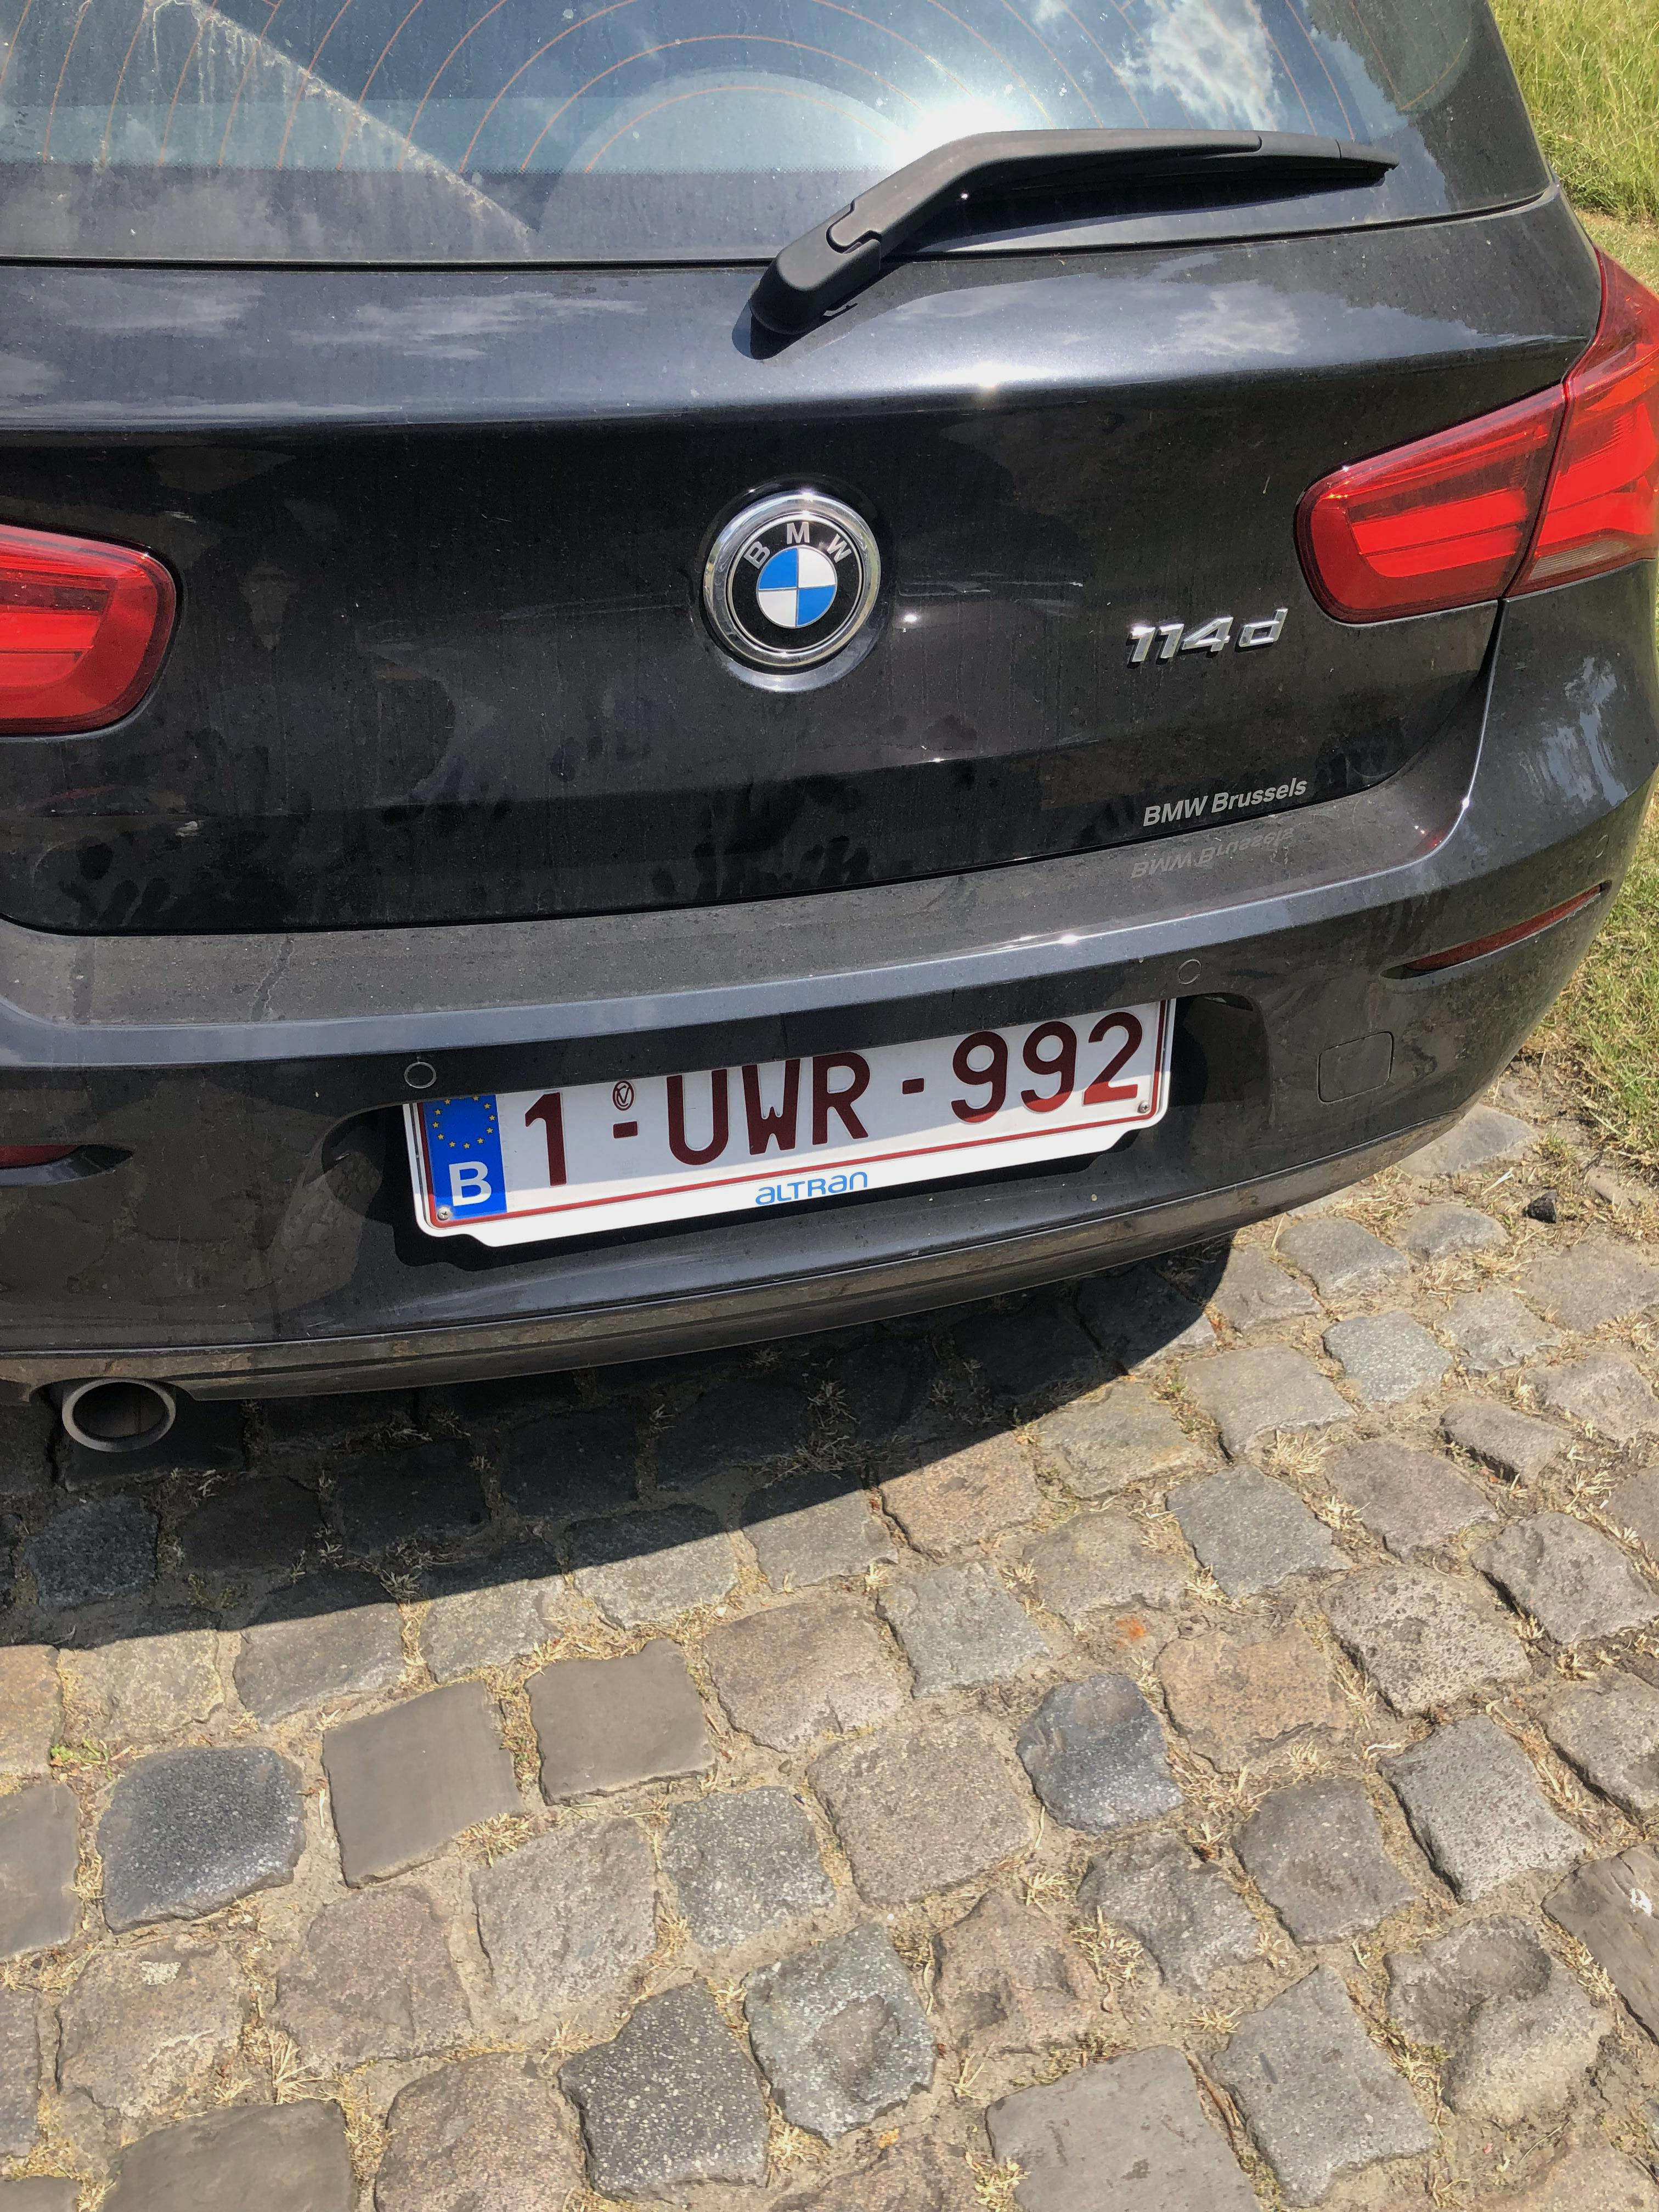plate: (377, 953, 1221, 1249)
